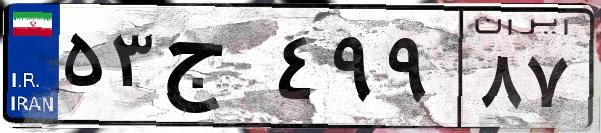3: (110, 28, 158, 98)
4: (270, 28, 330, 110)
5: (57, 26, 110, 100)
7: (525, 38, 570, 115)
8: (475, 38, 525, 113)
9: (385, 28, 445, 110), (330, 28, 385, 110)
ج: (158, 20, 270, 120)
